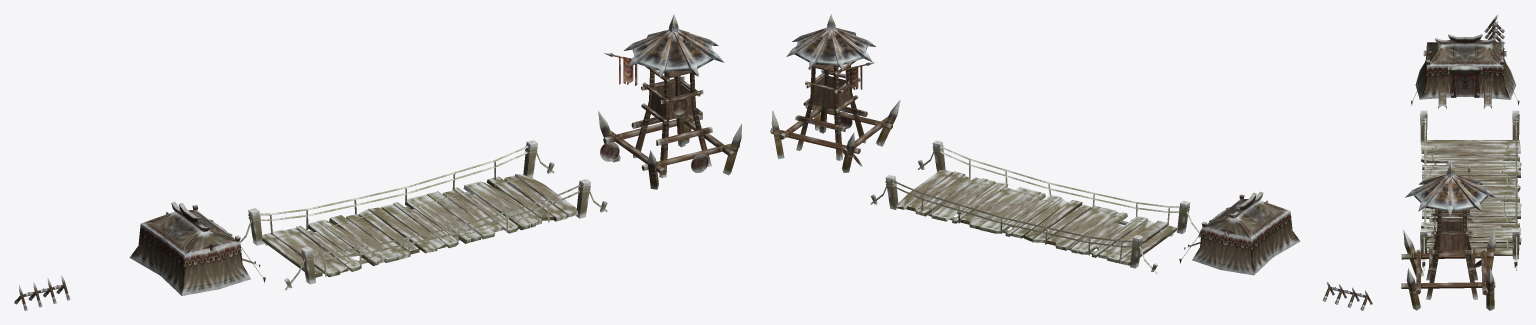
The model's file is S7_new3d_xue_moxing002.FBX.
3 views of the same model, side by side, from view 1: azimuth 30°, elevation 25°; view 2: azimuth 150°, elevation 25°; view 3: azimuth 270°, elevation 25° (orthographic). The views are drawn at different scales.
Parts seen in each view (by area): view 1: S7_new3d_xue_xueqiao001, S7_new3d_xue_jianta001, S7_new3d_xue_zhangpeng002, S7_new3d_xue_juma001; view 2: S7_new3d_xue_xueqiao001, S7_new3d_xue_jianta001, S7_new3d_xue_zhangpeng002, S7_new3d_xue_juma001; view 3: S7_new3d_xue_xueqiao001, S7_new3d_xue_jianta001, S7_new3d_xue_zhangpeng002, S7_new3d_xue_juma001.
Part boxes in pixels (x1=…): S7_new3d_xue_xueqiao001: x1=240, y1=140, x2=607, y2=290; S7_new3d_xue_jianta001: x1=598, y1=14, x2=741, y2=189; S7_new3d_xue_zhangpeng002: x1=129, y1=202, x2=265, y2=295; S7_new3d_xue_juma001: x1=14, y1=275, x2=70, y2=310; S7_new3d_xue_xueqiao001: x1=870, y1=140, x2=1201, y2=273; S7_new3d_xue_jianta001: x1=770, y1=14, x2=900, y2=172; S7_new3d_xue_zhangpeng002: x1=1179, y1=191, x2=1300, y2=275; S7_new3d_xue_juma001: x1=1323, y1=282, x2=1372, y2=310; S7_new3d_xue_xueqiao001: x1=1420, y1=110, x2=1521, y2=270; S7_new3d_xue_jianta001: x1=1401, y1=161, x2=1495, y2=310; S7_new3d_xue_zhangpeng002: x1=1411, y1=34, x2=1519, y2=108; S7_new3d_xue_juma001: x1=1484, y1=14, x2=1504, y2=49.
Bounding box in the file's own units: 52.76 × 12.43 × 9.33.
1 material, 1 textured.
